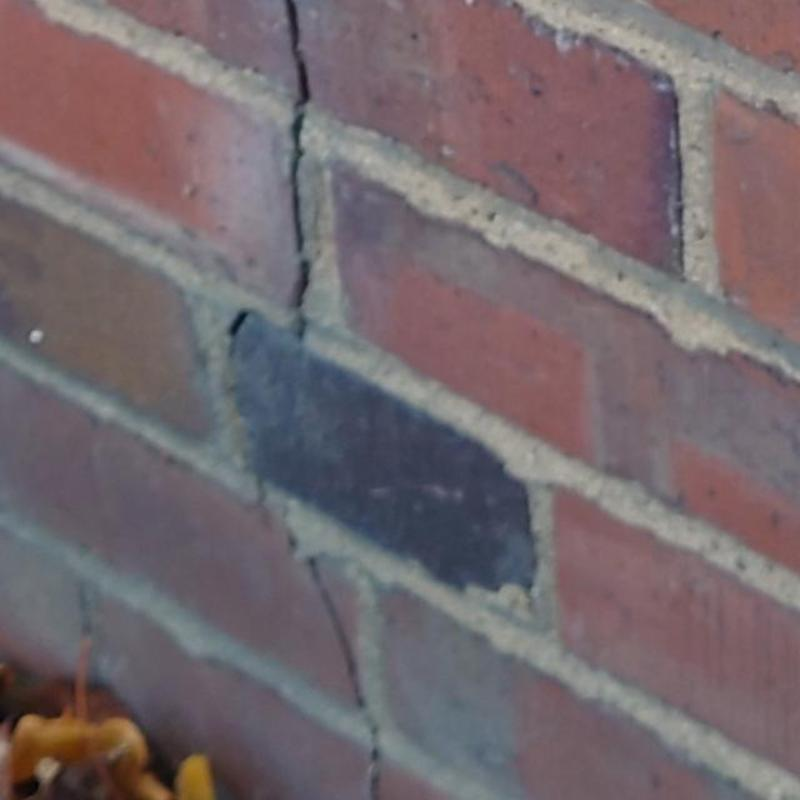pothole: (281, 521, 382, 799), (285, 0, 311, 338), (230, 309, 250, 336), (256, 479, 264, 505)
